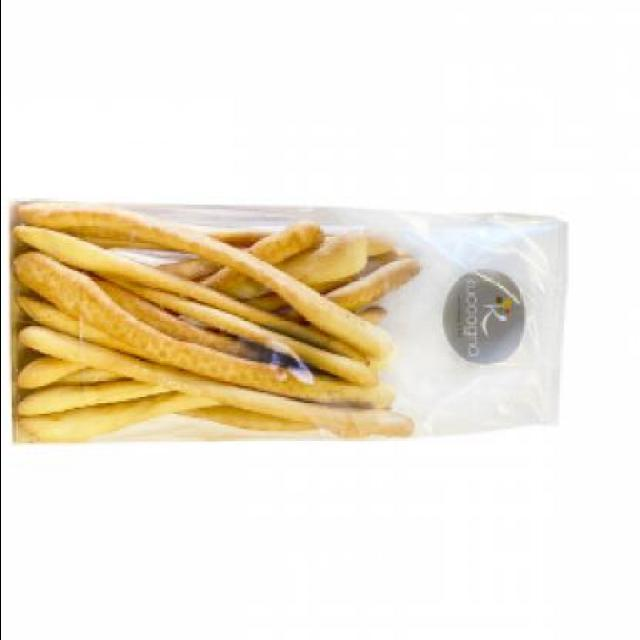Grissini: (29, 230, 406, 433)
